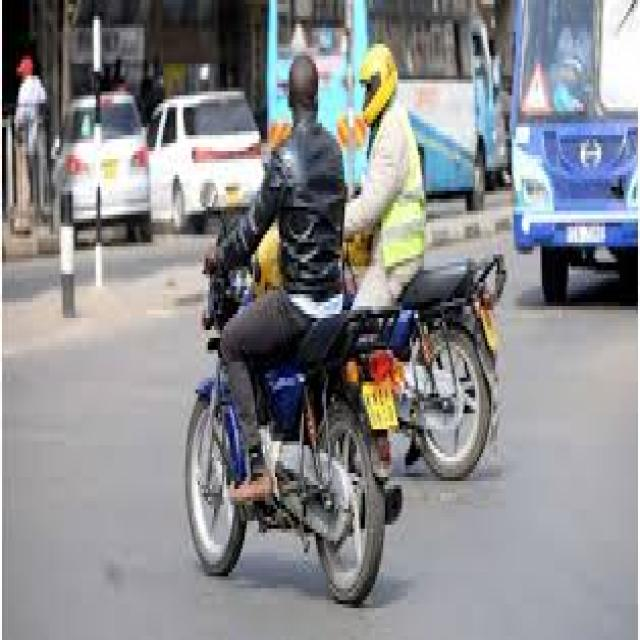bodaboda: (180, 295, 396, 624), (412, 205, 525, 522)
bus: (262, 0, 506, 181), (532, 0, 640, 330)
